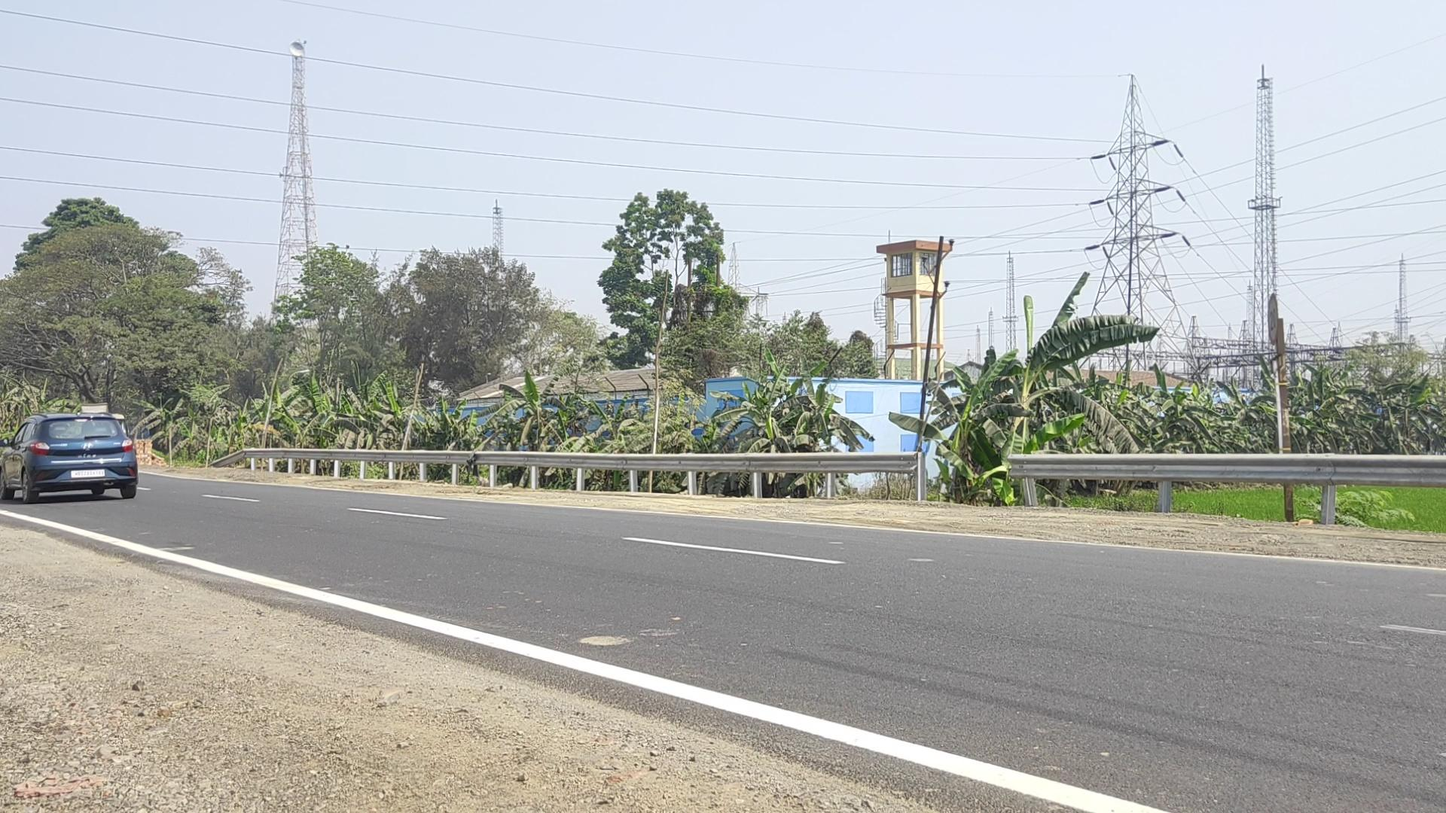car: (1, 411, 139, 504)
